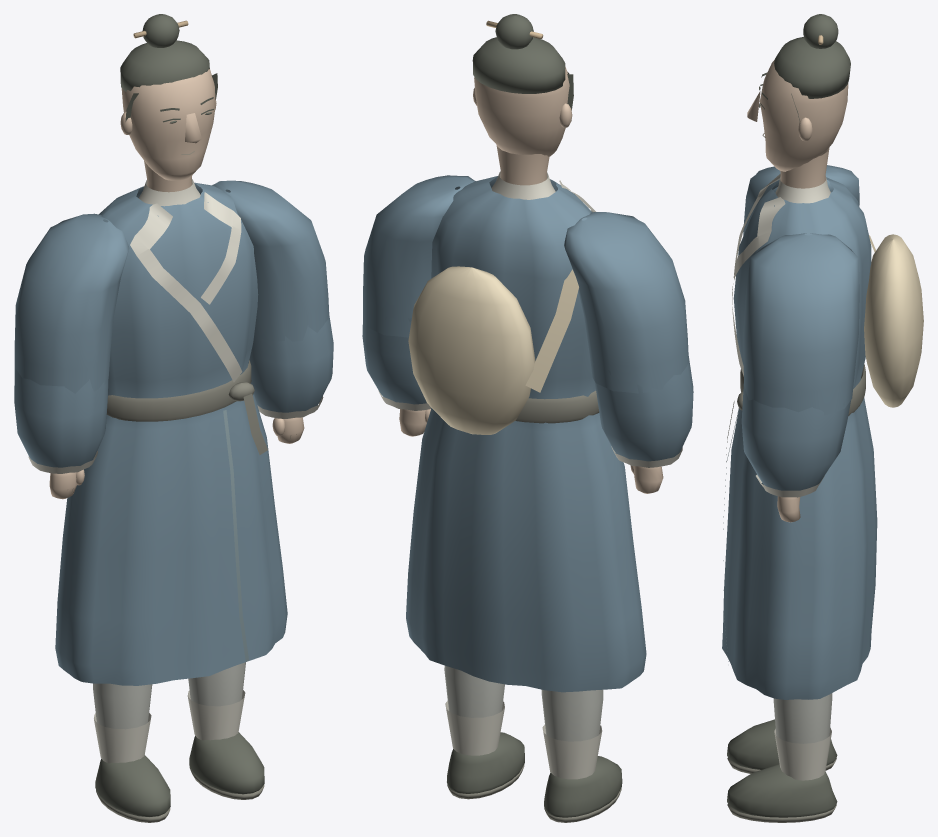
The model's file is a-qing.glb.
3 views of the same model, side by side, from view 1: azimuth 30°, elevation 25°; view 2: azimuth 150°, elevation 25°; view 3: azimuth 270°, elevation 25° (orthographic). The views are drawn at different scales.
Visible parts, largest first — view 1: body_indigo, arm_L_indigo, arm_R_indigo, head_skin, elbow_L_indigo, body_robe_cream, elbow_R_indigo, head_hair, body_belt, knee_L_hair, knee_R_hair, knee_L_robe_gray (+7 smaller); view 2: body_indigo, body_cloth, arm_L_indigo, arm_R_indigo, elbow_L_indigo, head_skin, head_hair, elbow_R_indigo, knee_R_hair, knee_L_hair, knee_L_robe_gray, knee_R_robe_gray (+7 smaller); view 3: body_indigo, arm_R_indigo, body_cloth, elbow_R_indigo, head_skin, head_hair, knee_R_hair, knee_R_robe_gray, body_robe_cream, knee_L_hair, knee_R_robe_cream, arm_L_indigo (+5 smaller).
Boxes of the visible parts, bbox=[...] form: body_indigo: bbox=[55, 182, 287, 685]; arm_L_indigo: bbox=[14, 213, 129, 393]; arm_R_indigo: bbox=[212, 180, 329, 341]; head_skin: bbox=[120, 69, 216, 180]; elbow_L_indigo: bbox=[14, 369, 108, 467]; body_robe_cream: bbox=[130, 179, 242, 382]; elbow_R_indigo: bbox=[248, 315, 333, 412]; head_hair: bbox=[120, 14, 217, 123]; body_belt: bbox=[106, 360, 267, 454]; knee_L_hair: bbox=[95, 755, 170, 816]; knee_R_hair: bbox=[189, 732, 264, 794]; knee_L_robe_gray: bbox=[93, 683, 152, 729]; body_indigo: bbox=[406, 176, 646, 692]; body_cloth: bbox=[408, 266, 578, 434]; arm_L_indigo: bbox=[564, 212, 688, 393]; arm_R_indigo: bbox=[363, 175, 475, 337]; elbow_L_indigo: bbox=[592, 356, 693, 461]; head_skin: bbox=[473, 67, 572, 156]; head_hair: bbox=[472, 14, 573, 110]; elbow_R_indigo: bbox=[362, 316, 426, 404]; knee_R_hair: bbox=[447, 732, 524, 793]; knee_L_hair: bbox=[544, 756, 622, 817]; knee_L_robe_gray: bbox=[541, 689, 603, 741]; knee_R_robe_gray: bbox=[444, 665, 504, 717]; body_indigo: bbox=[722, 177, 877, 699]; arm_R_indigo: bbox=[743, 233, 859, 415]; body_cloth: bbox=[864, 234, 923, 407]; elbow_R_indigo: bbox=[741, 384, 850, 490]; head_skin: bbox=[747, 59, 848, 171]; head_hair: bbox=[759, 14, 850, 123]; knee_R_hair: bbox=[727, 764, 837, 817]; knee_R_robe_gray: bbox=[773, 693, 832, 743]; body_robe_cream: bbox=[732, 173, 830, 376]; knee_L_hair: bbox=[727, 719, 837, 769]; knee_R_robe_cream: bbox=[774, 728, 831, 780]; arm_L_indigo: bbox=[743, 165, 859, 235].
Size of the model in its own units: 0.8132 by 1.94 by 0.4598.
